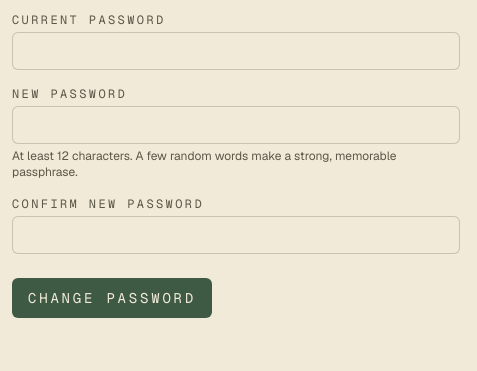
Test: ChangePasswordForm › shows the error returned by the action
This screenshot has width=477, height=371.
Type "old-password-123" into the password field labelled "Current password".
click(236, 51); type("old-password-123")  # box [12,32,460,70]
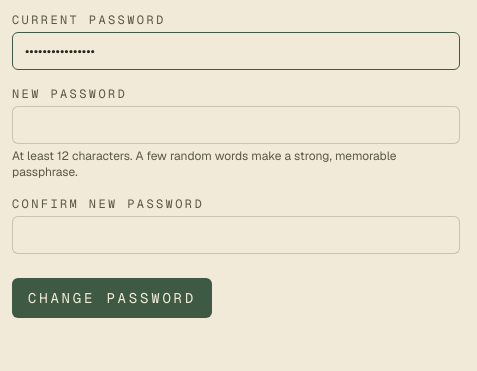
Type "a-brand-new-passphrase" into the password field labelled "New password".
click(236, 125); type("a-brand-new-passphrase")  # box [12,106,460,144]
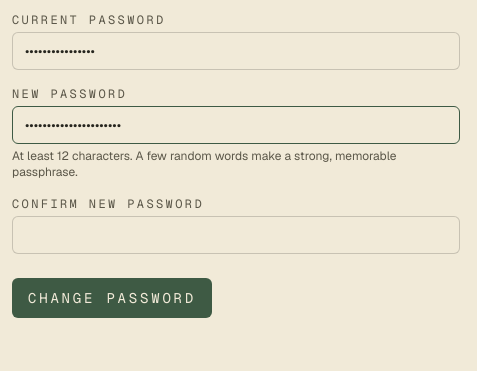
Type "a-brand-new-passphrase" into the password field labelled "Confirm new password".
click(236, 235); type("a-brand-new-passphrase")  # box [12,216,460,254]
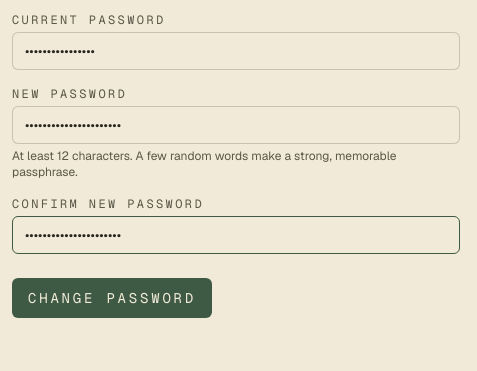
Click the button "Change password".
click(112, 298)  # box [12,278,212,318]
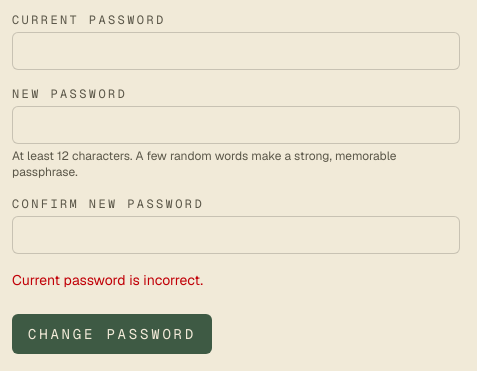
Result: the message shows "incorrect" at [12,271,203,289]
